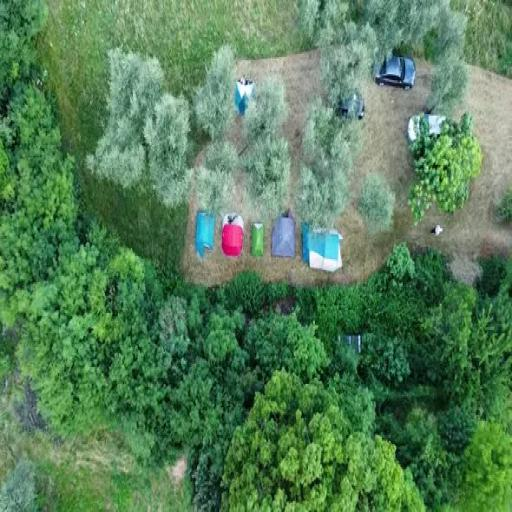tent: (301, 219, 343, 274), (220, 211, 243, 258), (269, 218, 293, 258), (196, 208, 214, 256), (234, 80, 254, 122), (251, 224, 264, 256)
